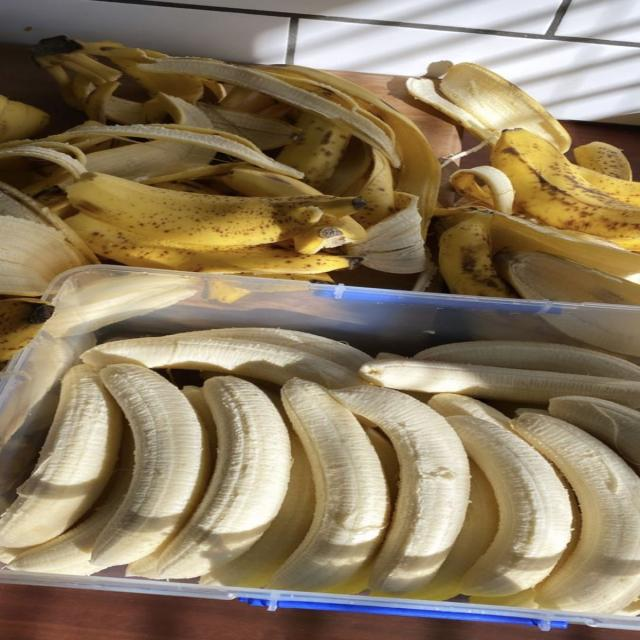banana: (331, 386, 469, 592), (274, 66, 440, 237), (138, 58, 400, 166), (158, 376, 291, 578), (268, 379, 388, 590), (513, 414, 639, 612), (92, 364, 209, 566), (447, 416, 571, 596), (0, 365, 122, 547), (67, 174, 363, 246), (66, 214, 362, 276), (8, 429, 133, 575), (200, 433, 314, 587), (492, 129, 639, 238), (83, 335, 363, 388), (407, 63, 570, 152), (403, 460, 499, 600), (360, 360, 639, 407), (474, 208, 639, 282), (0, 332, 95, 459), (82, 124, 302, 177), (34, 37, 202, 102), (45, 274, 197, 337), (415, 340, 639, 381), (173, 327, 370, 371), (496, 250, 639, 306), (0, 183, 99, 263), (0, 215, 88, 296), (345, 192, 431, 273), (549, 397, 639, 470), (439, 213, 515, 297), (278, 112, 349, 188), (87, 140, 215, 180), (196, 102, 300, 149), (115, 51, 203, 103), (348, 149, 396, 228), (359, 418, 399, 510), (213, 164, 322, 197), (0, 299, 54, 362), (216, 166, 322, 197), (182, 386, 217, 475), (450, 166, 514, 214), (182, 386, 217, 469), (428, 393, 510, 428), (323, 137, 372, 195), (293, 216, 367, 254), (139, 163, 254, 184), (579, 167, 639, 206), (0, 96, 49, 142), (573, 142, 632, 180), (220, 85, 278, 114), (84, 81, 120, 123), (469, 588, 539, 609), (106, 95, 146, 124), (154, 181, 224, 195), (616, 597, 639, 615), (514, 408, 548, 417)
